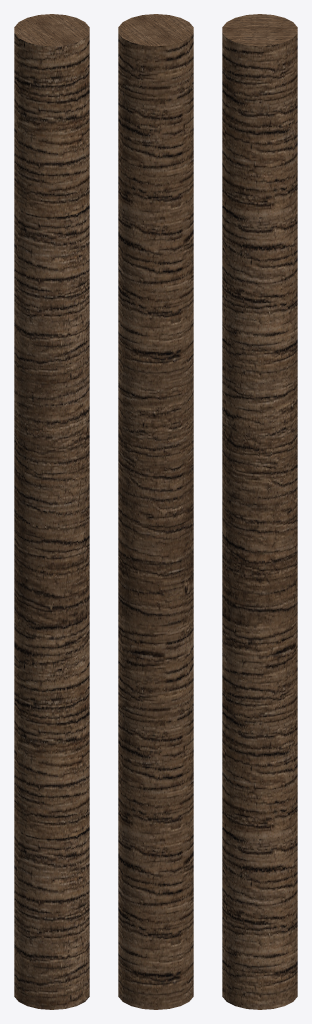
File: BridgePole.FBX
3 renders of one model, left to right at view 1: azimuth 30°, elevation 25°; view 2: azimuth 210°, elevation 25°; view 3: azimuth 270°, elevation 25°, orthographic.
Parts seen in each view (by area): view 1: Cylinder001; view 2: Cylinder001; view 3: Cylinder001.
Part boxes in pixels (x1=…): Cylinder001: x1=14, y1=14, x2=89, y2=1009; Cylinder001: x1=118, y1=14, x2=193, y2=1009; Cylinder001: x1=222, y1=14, x2=297, y2=1009.
Size of the model in its own units: 5.49 by 76.2 by 5.4.
Materials: 1 (1 with a texture image).
